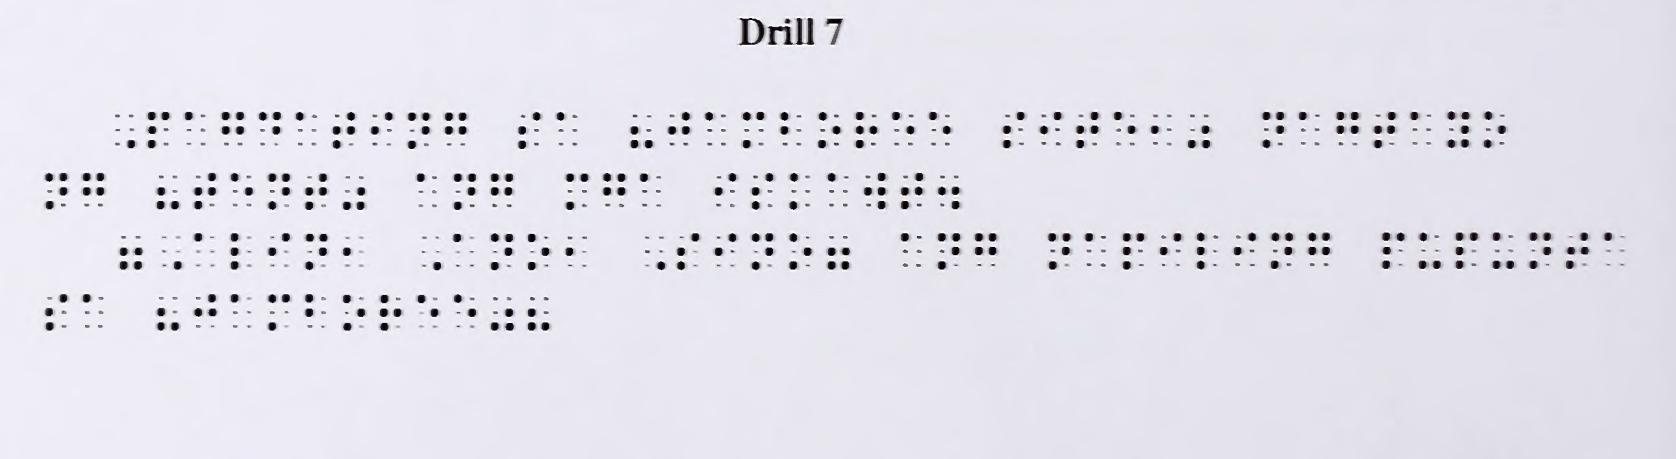capital_sign: (645, 235, 666, 271), (114, 113, 135, 149), (161, 235, 182, 271), (421, 235, 441, 271)
letter_A: (193, 232, 215, 269), (452, 233, 475, 267)
letter_P: (146, 111, 170, 149)
letter_S: (676, 233, 700, 271)
letter_a: (1602, 231, 1626, 266), (184, 111, 206, 147), (1298, 111, 1320, 147), (415, 173, 437, 209), (639, 172, 662, 208), (82, 293, 105, 328), (230, 293, 252, 328), (295, 112, 317, 147), (826, 173, 849, 208), (556, 111, 577, 147), (900, 233, 921, 267), (1085, 233, 1106, 267), (704, 112, 726, 146), (1410, 112, 1431, 146)
letter_b: (778, 111, 801, 146), (305, 294, 327, 328)
letter_d: (259, 111, 281, 147)
letter_e: (1113, 111, 1136, 148), (229, 172, 253, 206), (891, 111, 915, 146), (928, 112, 951, 147), (417, 294, 440, 328), (453, 294, 477, 328)
letter_g: (444, 111, 468, 147), (490, 173, 514, 209), (602, 172, 626, 208), (1335, 112, 1360, 147), (221, 111, 245, 147), (974, 232, 997, 266), (1306, 232, 1330, 266), (82, 172, 105, 208)
letter_i: (369, 111, 393, 147), (713, 233, 738, 269), (267, 233, 291, 267), (1040, 111, 1062, 147), (1233, 232, 1256, 266), (1160, 233, 1182, 266), (715, 173, 736, 208)
letter_j: (667, 111, 690, 147), (193, 293, 217, 328)
letter_k: (790, 172, 810, 210)
letter_l: (230, 233, 252, 271), (1196, 232, 1219, 270)
letter_m: (564, 172, 589, 210), (267, 293, 291, 332), (742, 111, 764, 148)
letter_n: (406, 111, 431, 149), (452, 172, 477, 210), (490, 233, 514, 271), (267, 172, 291, 211), (1528, 231, 1552, 270), (44, 173, 68, 210), (1261, 111, 1285, 149), (305, 233, 328, 271), (750, 233, 774, 271), (937, 233, 961, 271), (1270, 232, 1293, 270), (1047, 233, 1071, 270)
letter_o: (341, 295, 366, 332), (1483, 111, 1506, 149), (527, 233, 550, 271), (789, 233, 812, 271), (818, 112, 840, 149)
letter_p: (1454, 232, 1479, 270), (1381, 232, 1406, 269), (1122, 233, 1145, 270)
letter_r: (854, 111, 878, 149), (378, 294, 402, 331)
letter_s: (517, 111, 542, 149), (44, 293, 67, 332), (1002, 111, 1025, 149), (751, 172, 774, 211)
letter_t: (1075, 111, 1100, 149), (332, 111, 356, 150), (1372, 111, 1396, 149), (192, 172, 216, 210), (1566, 232, 1589, 269), (901, 172, 924, 210), (305, 173, 327, 210)
letter_u: (1491, 231, 1515, 270), (1418, 232, 1441, 269)
letter_w: (863, 173, 886, 210)
letter_y: (1446, 111, 1470, 149)
